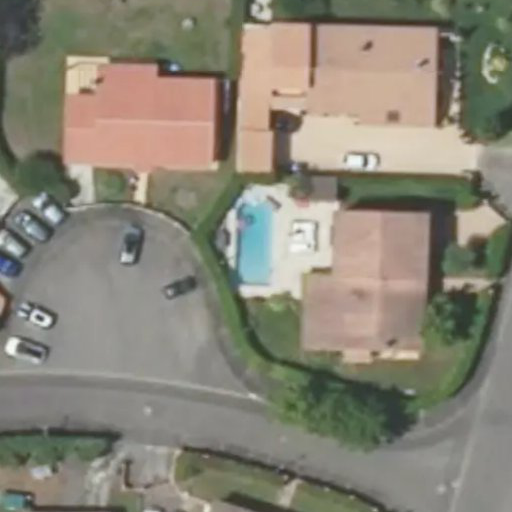pool: (237, 201, 274, 282)
